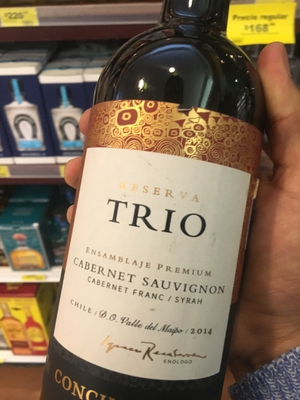trio cabernet sauvignon: (53, 31, 264, 400)
